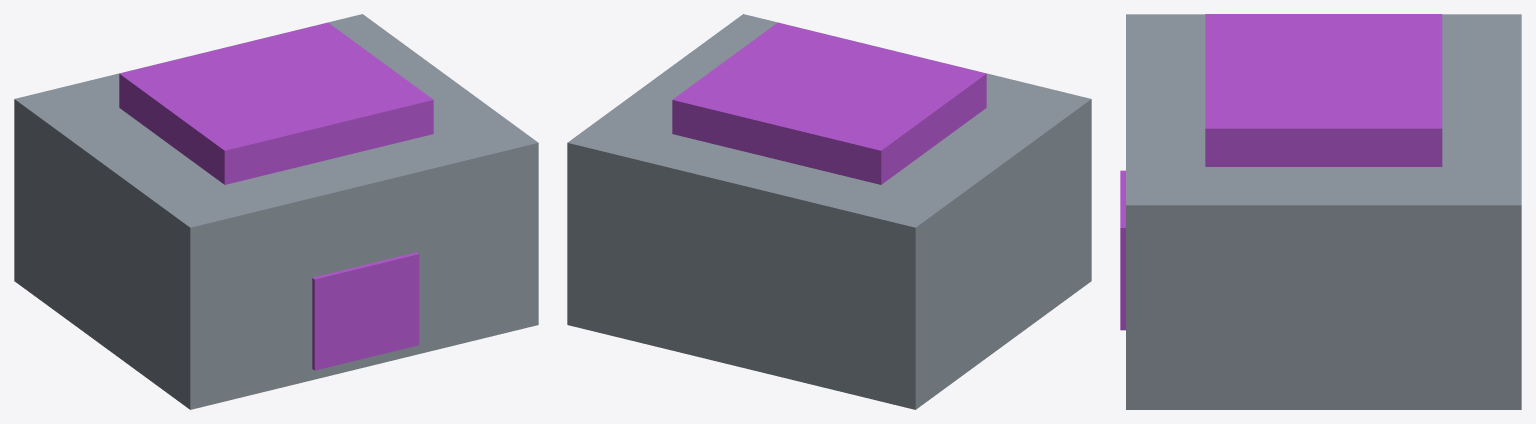
The model's file is CH_MCV_MobileArk_LOD0.glb.
3 views of the same model, side by side, from view 1: azimuth 30°, elevation 25°; view 2: azimuth 150°, elevation 25°; view 3: azimuth 270°, elevation 25° (orthographic). The views are drawn at different scales.
Visible parts, largest first — view 1: EntranceGate; view 2: EntranceGate; view 3: EntranceGate.
Boxes of the visible parts, box(x1,y1,x2,y2) form: EntranceGate: box(14, 14, 538, 409); EntranceGate: box(567, 14, 1091, 409); EntranceGate: box(1120, 14, 1521, 409).
Bounding box in the file's own units: 800 × 475 × 710.
